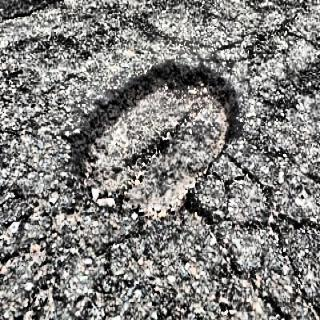pothole: (69, 56, 245, 225)
